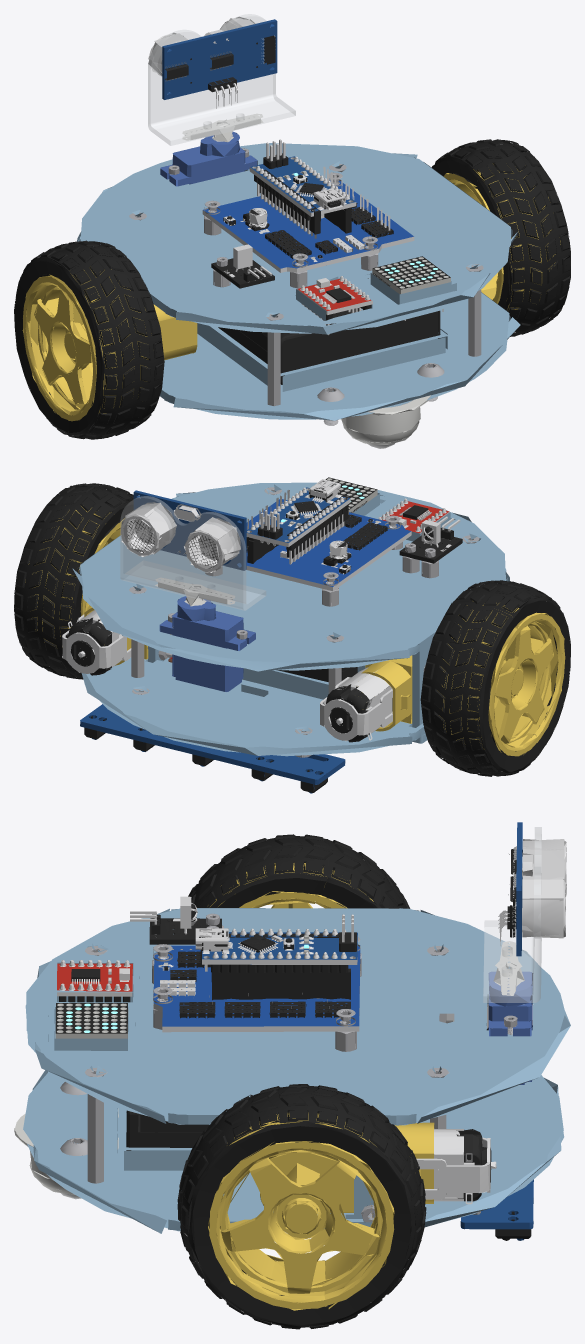
The model's file is car.glb.
The picture shows the model from 3 angles, top to bottom: view 1: azimuth 30°, elevation 25°; view 2: azimuth 150°, elevation 25°; view 3: azimuth 270°, elevation 25°; orthographic projection. The views are drawn at different scales.
Parts seen in each view (by area): view 1: UpperPlate, Wheel_L, BottomPlate, Wheel_R, Shield, Ultrasonic, SensorBracket, Battery, Nano, Servo, Caster, Matrix (+6 smaller); view 2: UpperPlate, Wheel_L, BottomPlate, Wheel_R, SensorBracket, Shield, Ultrasonic, Motor_L, LineSensor, Servo, Nano, Motor_R (+7 smaller); view 3: UpperPlate, Wheel_R, BottomPlate, Shield, Wheel_L, Motor_R, Nano, Ultrasonic, SensorBracket, Driver, Matrix, LineSensor (+6 smaller).
Boxes of the visible parts, x1,y1,x2,y2 form: UpperPlate: (77, 143, 518, 334); Wheel_L: (14, 240, 164, 439); BottomPlate: (160, 292, 520, 420); Wheel_R: (431, 139, 570, 336); Shield: (202, 166, 414, 272); Ultrasonic: (148, 17, 277, 108); SensorBracket: (148, 14, 295, 145); Battery: (218, 278, 440, 384); Nano: (249, 139, 356, 234); Servo: (160, 131, 257, 186); Caster: (341, 395, 430, 448); Matrix: (372, 256, 450, 320); UpperPlate: (72, 482, 509, 671); Wheel_L: (420, 580, 570, 776); BottomPlate: (81, 657, 425, 756); Wheel_R: (14, 483, 133, 679); SensorBracket: (120, 496, 265, 610); Shield: (246, 490, 411, 591); Ultrasonic: (120, 490, 248, 572); Motor_L: (320, 655, 412, 742); LineSensor: (80, 704, 345, 793); Servo: (159, 596, 255, 691); Nano: (246, 479, 350, 564); Motor_R: (62, 607, 170, 675); UpperPlate: (25, 908, 570, 1125); Wheel_R: (177, 1084, 426, 1329); BottomPlate: (23, 1070, 564, 1233); Shield: (153, 933, 360, 1032); Wheel_L: (188, 834, 410, 908); Motor_R: (260, 1122, 496, 1212); Nano: (195, 914, 357, 972); Ultrasonic: (498, 822, 566, 956); SensorBracket: (483, 827, 541, 1002); Driver: (57, 960, 132, 1002); Matrix: (55, 1003, 128, 1038); LineSensor: (460, 1179, 533, 1240).
Bounding box in the file's own units: 0.19 × 0.1088 × 0.1547.
